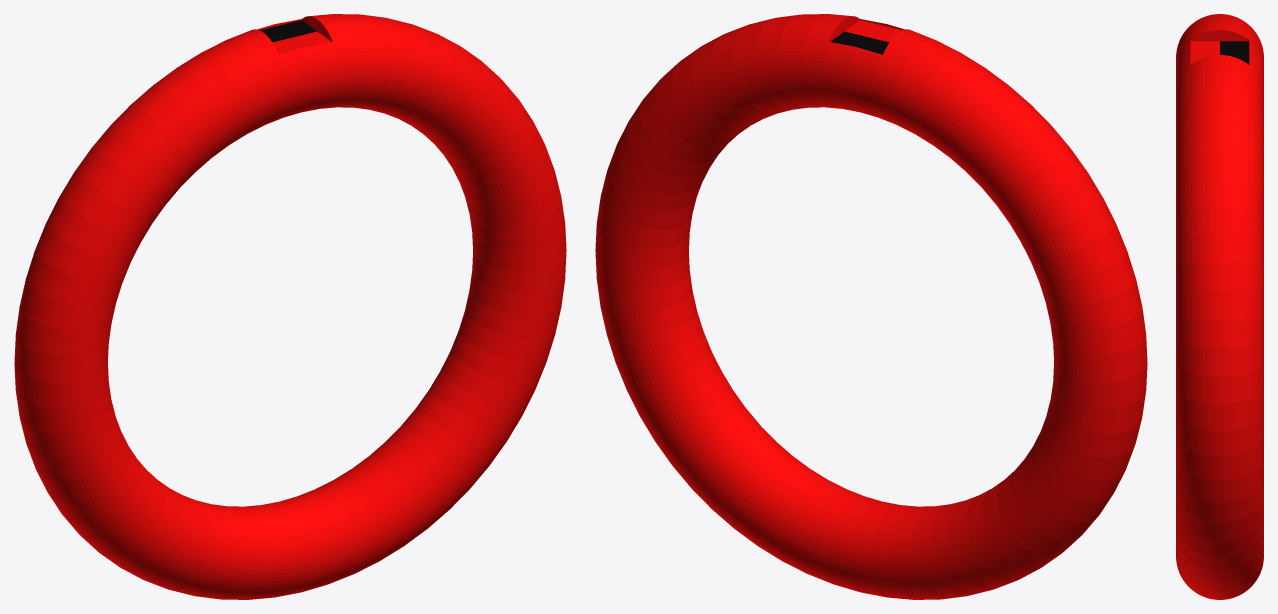
The model's file is inactive.dae.
3 renders of one model, left to right at view 1: azimuth 30°, elevation 25°; view 2: azimuth 150°, elevation 25°; view 3: azimuth 270°, elevation 25°, orthographic. The views are drawn at different scales.
Visible parts, largest first — view 1: skp88C4; view 2: skp88C4; view 3: skp88C4 (×2).
Boxes of the visible parts, box(x1,y1,x2,y2) form: skp88C4: box(14, 14, 566, 599); skp88C4: box(595, 14, 1147, 599); skp88C4 (×2): box(1176, 14, 1263, 599).
Size of the model in its own units: 1575 by 236 by 1571.
